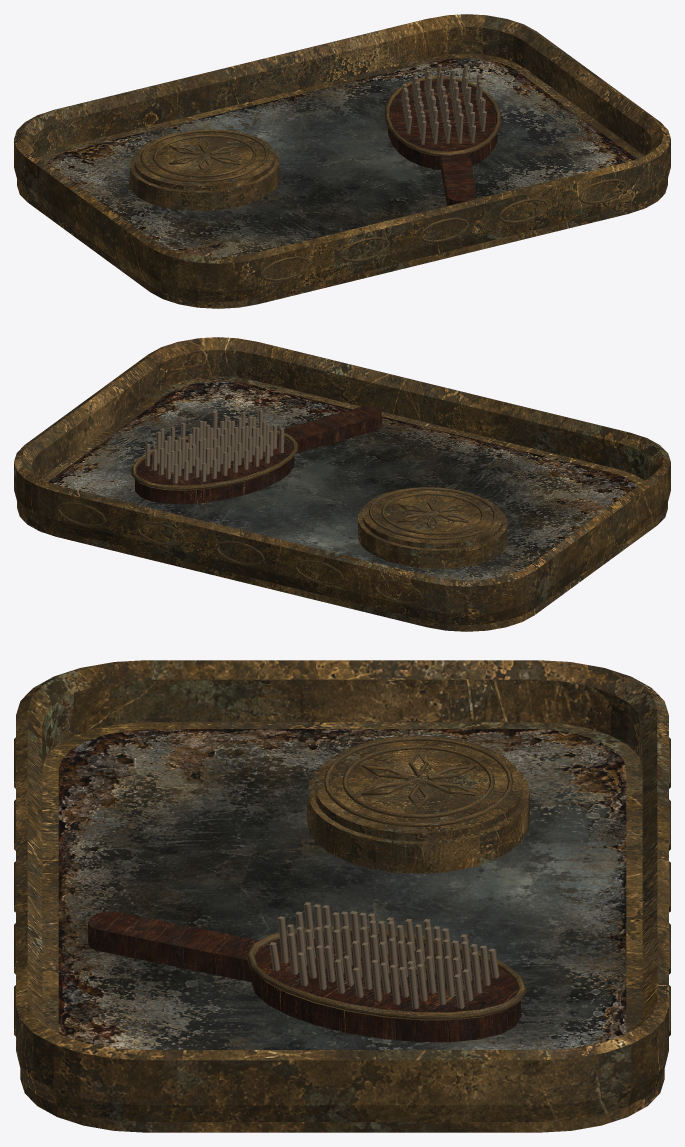
Rendered from vanity_tray.glb.
3 renders of one model, top to bottom at view 1: azimuth 30°, elevation 25°; view 2: azimuth 150°, elevation 25°; view 3: azimuth 270°, elevation 25°, orthographic. The views are drawn at different scales.
Visible parts, largest first — view 1: VanityTray_Rim, VanityTray_WeatheredInset, VanityTray_Base, VanityTray_CompactLid, VanityTray_BrushBody, VanityTray_BrushBristles, VanityTray_Compact, VanityTray_CompactEngraving, VanityTray_BrushHandle, VanityTray_RimScrollwork, VanityTray_BrushTrim; view 2: VanityTray_Rim, VanityTray_WeatheredInset, VanityTray_Base, VanityTray_BrushBristles, VanityTray_CompactLid, VanityTray_BrushBody, VanityTray_Compact, VanityTray_CompactEngraving, VanityTray_BrushHandle, VanityTray_RimScrollwork, VanityTray_BrushTrim; view 3: VanityTray_WeatheredInset, VanityTray_Rim, VanityTray_Base, VanityTray_BrushBristles, VanityTray_CompactLid, VanityTray_BrushBody, VanityTray_Compact, VanityTray_BrushHandle, VanityTray_CompactEngraving, VanityTray_BrushTrim, VanityTray_RimScrollwork.
Boxes of the visible parts, x1,y1,x2,y2 form: VanityTray_Rim: (14,14,670,302); VanityTray_WeatheredInset: (47,58,636,257); VanityTray_Base: (17,53,667,308); VanityTray_CompactLid: (134,129,274,190); VanityTray_BrushBody: (388,79,497,169); VanityTray_BrushBristles: (401,64,486,144); VanityTray_Compact: (129,148,279,210); VanityTray_CompactEngraving: (140,129,268,182); VanityTray_BrushHandle: (439,144,476,205); VanityTray_RimScrollwork: (261,179,627,281); VanityTray_BrushTrim: (384,75,501,155); VanityTray_Rim: (14,337,670,625); VanityTray_WeatheredInset: (48,381,637,580); VanityTray_Base: (17,376,667,631); VanityTray_BrushBristles: (145,409,284,483); VanityTray_CompactLid: (362,487,502,548); VanityTray_BrushBody: (135,434,294,504); VanityTray_Compact: (358,506,507,568); VanityTray_CompactEngraving: (369,487,496,540); VanityTray_BrushHandle: (279,406,381,453); VanityTray_RimScrollwork: (57,502,423,604); VanityTray_BrushTrim: (131,429,297,490); VanityTray_WeatheredInset: (58,729,626,1049); VanityTray_Rim: (16,660,668,1121); VanityTray_Base: (20,722,664,1132); VanityTray_BrushBristles: (269,902,499,1008); VanityTray_CompactLid: (314,735,523,841); VanityTray_BrushBody: (251,932,520,1042); VanityTray_Compact: (307,770,529,873); VanityTray_BrushHandle: (88,911,289,982); VanityTray_CompactEngraving: (324,736,513,827); VanityTray_BrushTrim: (246,926,526,1020); VanityTray_RimScrollwork: (14,737,670,1036).
Bounding box in the file's own units: 0.323 × 0.0458 × 0.2244.
4 materials, 3 textured.
